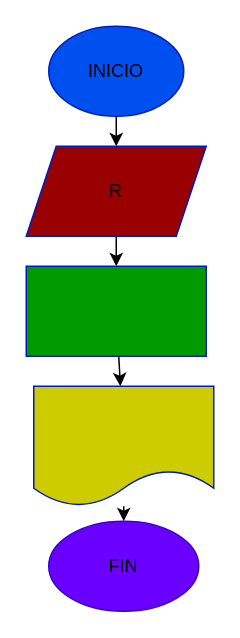
Some shapes in this 240 by 638 pixel diagram are drawn without their labels. The box of each missing label's shape, as (x1, y1, x2, y2) in pixels:
A P: (32, 385, 214, 506)
A=PI R 2 P=2 PI R: (25, 265, 206, 356)
